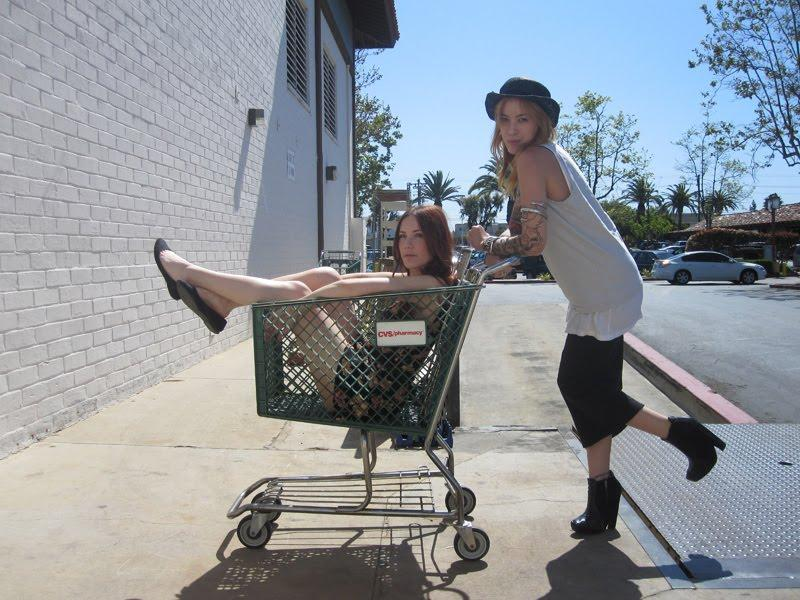person: (464, 79, 728, 543)
